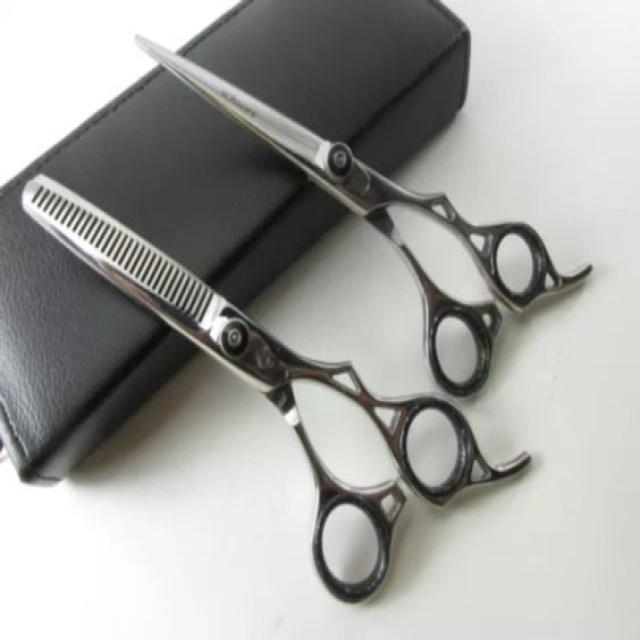scissor: (20, 35, 594, 606)
